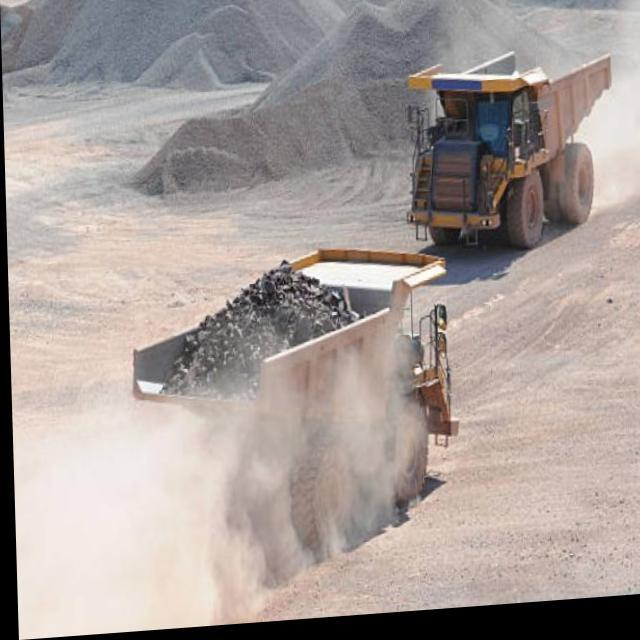uncovered: (139, 262, 440, 544), (419, 49, 615, 248)
